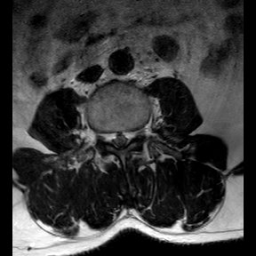CCS_severe_stenosis: (116, 121, 123, 156)
LFS_normal: (130, 119, 139, 144)
LLS_normal: (123, 121, 130, 152)
RFS_normal: (101, 122, 109, 149)
RLS_normal: (109, 122, 116, 152)
